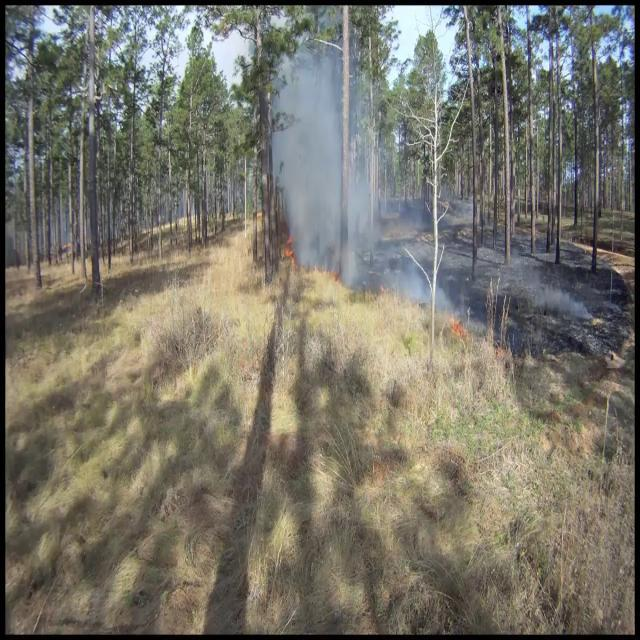Smoke: (270, 29, 380, 287)
